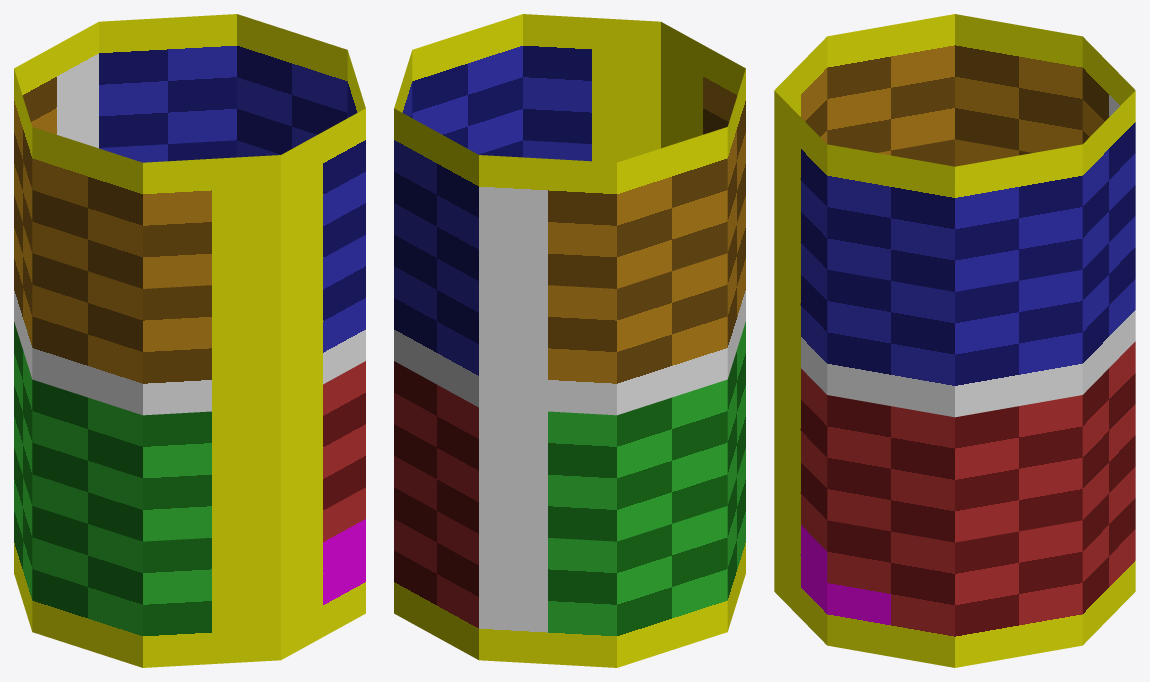
Rendered from pillar.obj.
The picture shows the model from 3 angles, left to right: view 1: azimuth 30°, elevation 25°; view 2: azimuth 150°, elevation 25°; view 3: azimuth 270°, elevation 25°; orthographic projection.
Parts seen in each view (by area): view 1: pillar; view 2: pillar; view 3: pillar.
Part boxes in pixels (x1=…): pillar: x1=14, y1=14, x2=365, y2=667; pillar: x1=394, y1=14, x2=745, y2=667; pillar: x1=774, y1=14, x2=1135, y2=667.
Bounding box in the file's own units: 2.61 × 4 × 2.61.
Materials: 1 (1 with a texture image).
